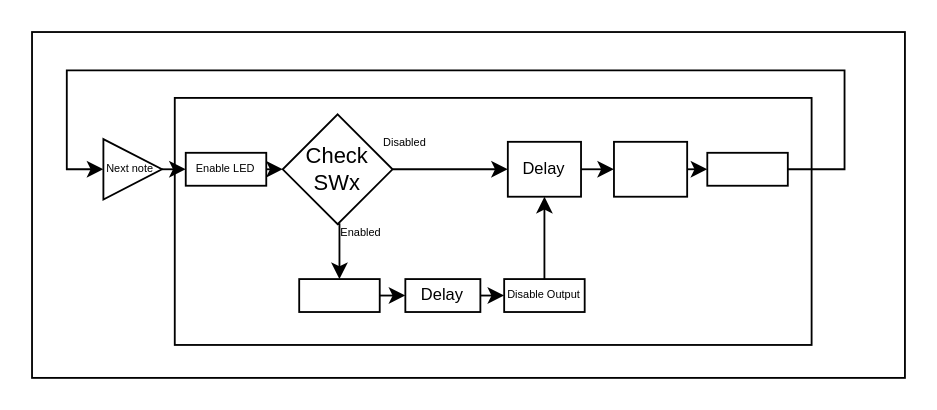
Some shapes in this 937 by 410 pixel diagram are drawn without their labels. Here are the shapes that lost their labels. From the top down, the centre of each, then its label:
At (x=649, y=168): "Get new frequency values".
At (x=746, y=168): "Disable LED".
At (x=338, y=294): "Enable output".
